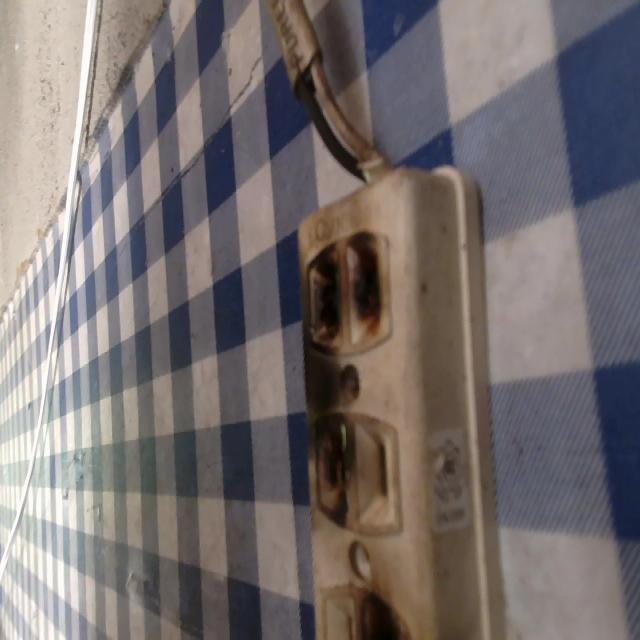-: (295, 221, 408, 359), (302, 407, 366, 533), (356, 576, 407, 639)
